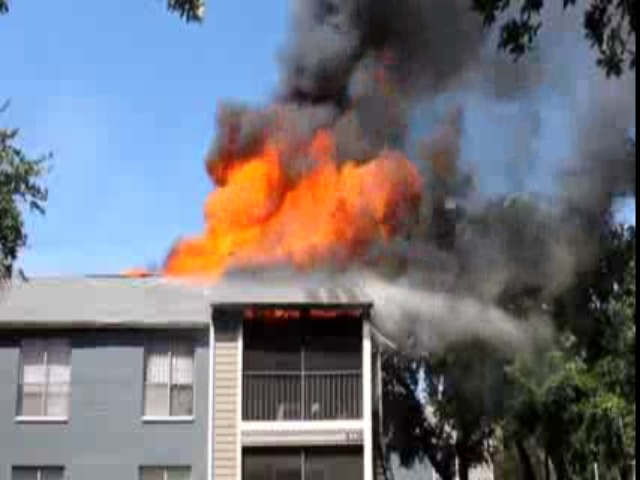fire: (165, 149, 405, 270)
